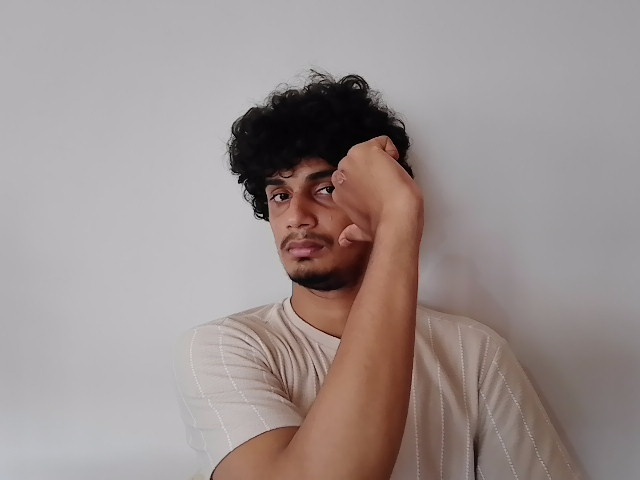drink: (259, 134, 434, 293)
